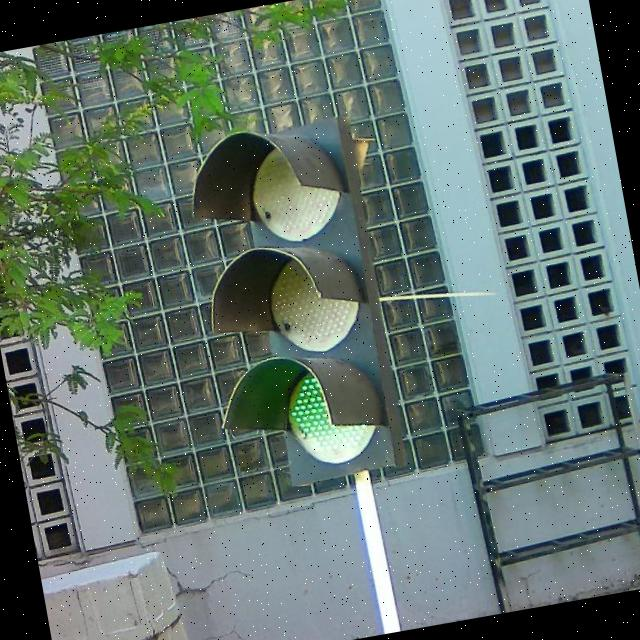green_light: (178, 116, 406, 496)
